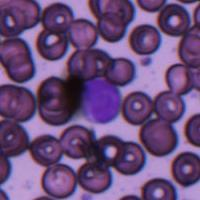L: (81, 74, 121, 125)
